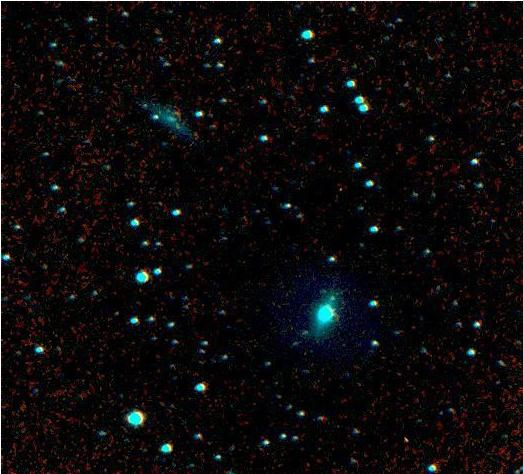star: (393, 423, 423, 453)
